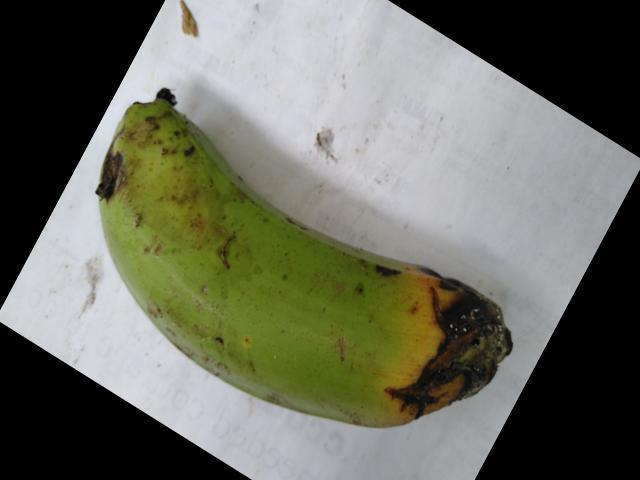rotten: (361, 256, 540, 468)
